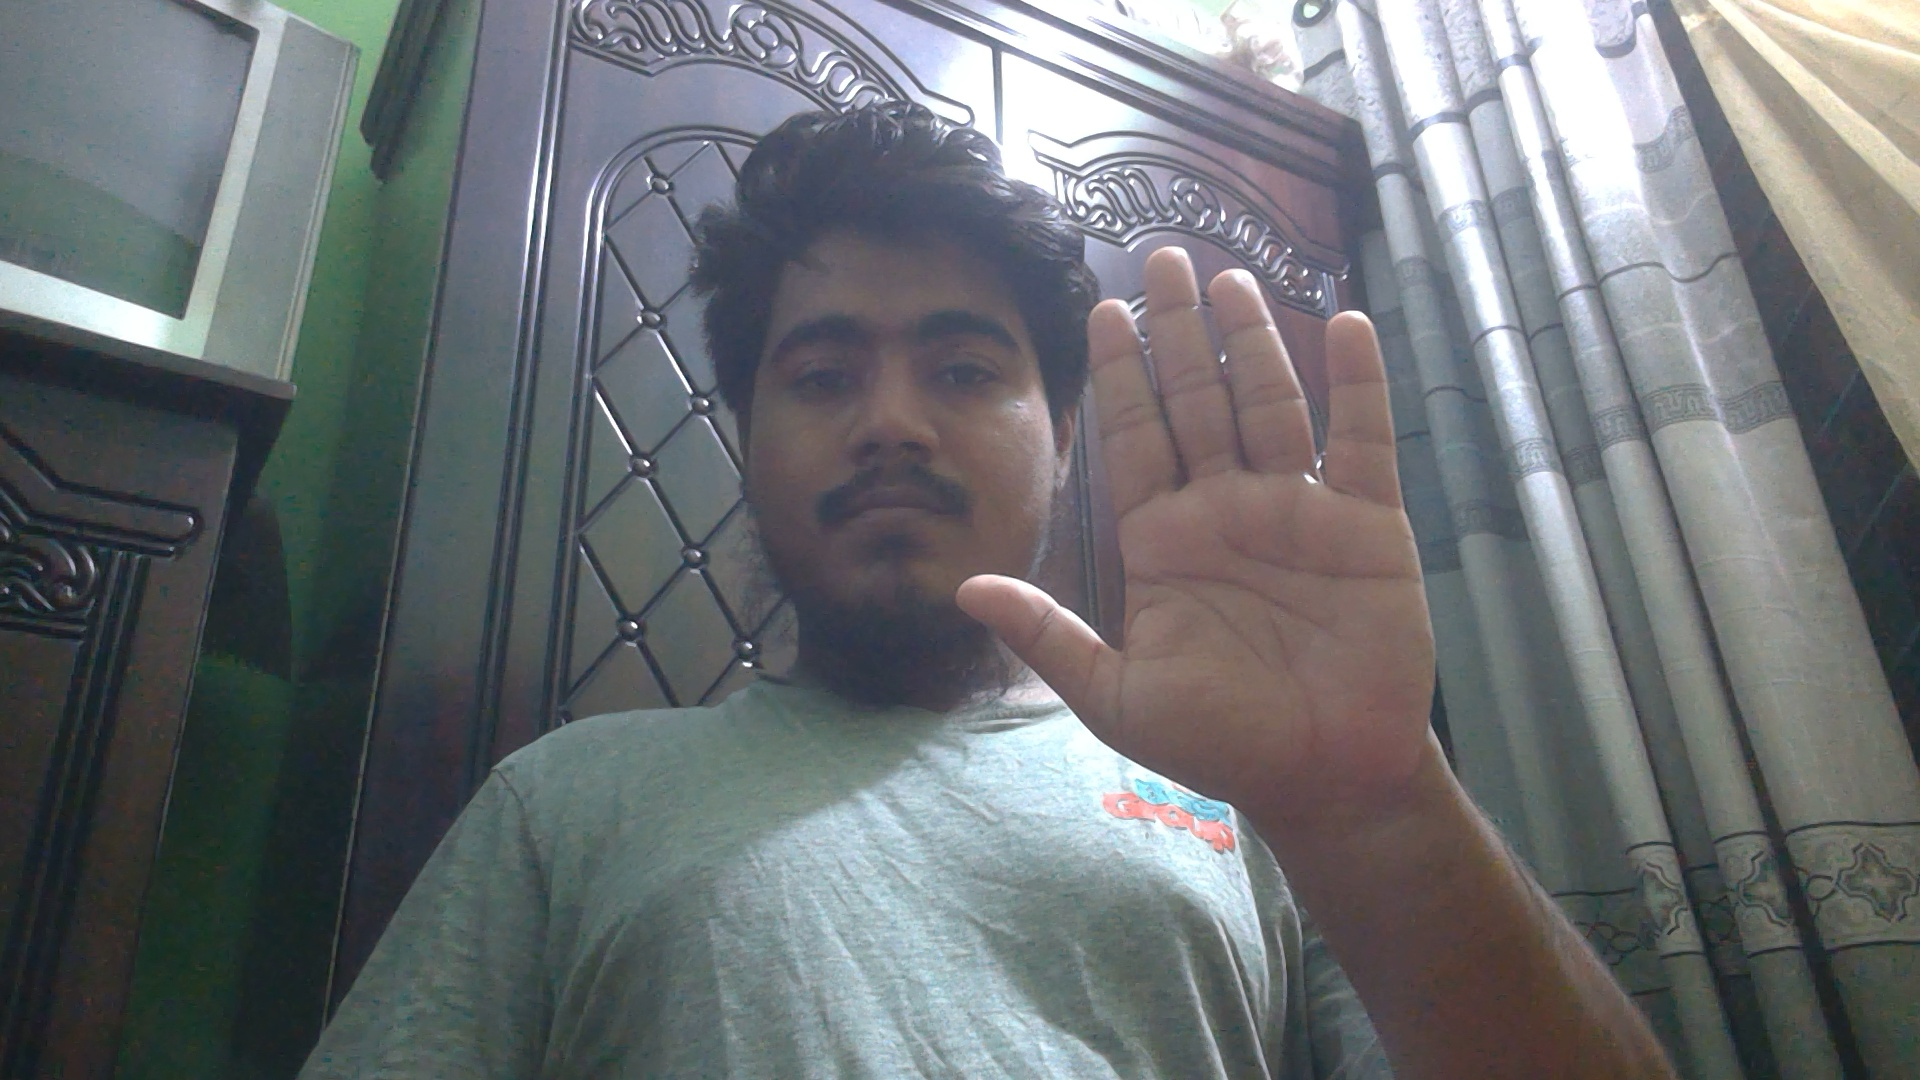Hello: (942, 233, 1470, 818)
